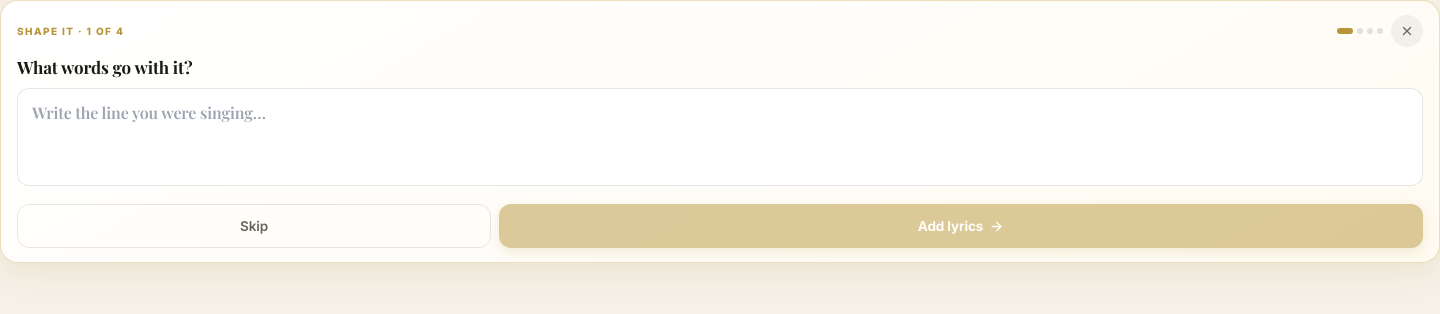
GuidedShapeRail — the guided path from a fresh idea to its home › without a song attached, the last card offers the loose ideas home
What coordinates should you click on to do the following:
click the button "Skip"
I would click on:
 (254, 226)
Its box is top-left (17, 204), bottom-right (491, 248).
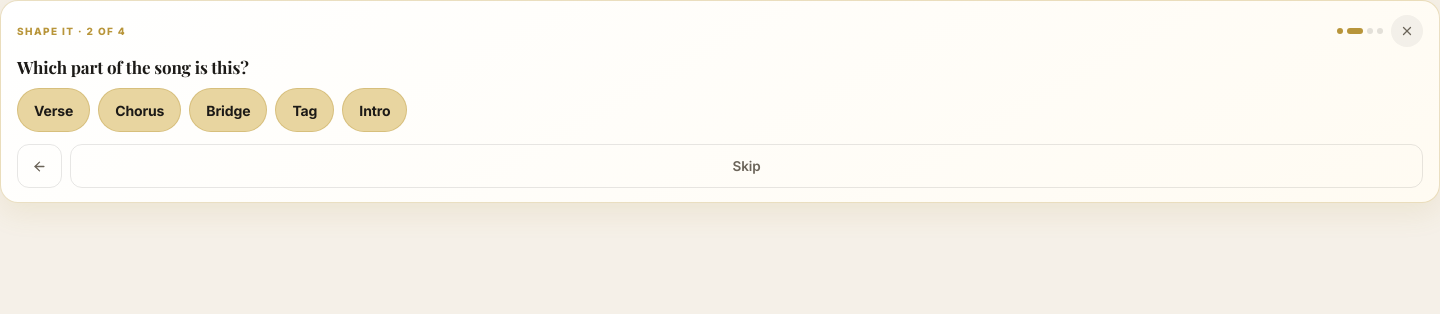
What coordinates should you click on to do the following:
click the button "Skip"
I would click on:
 (746, 166)
Its box is top-left (70, 144), bottom-right (1423, 188).
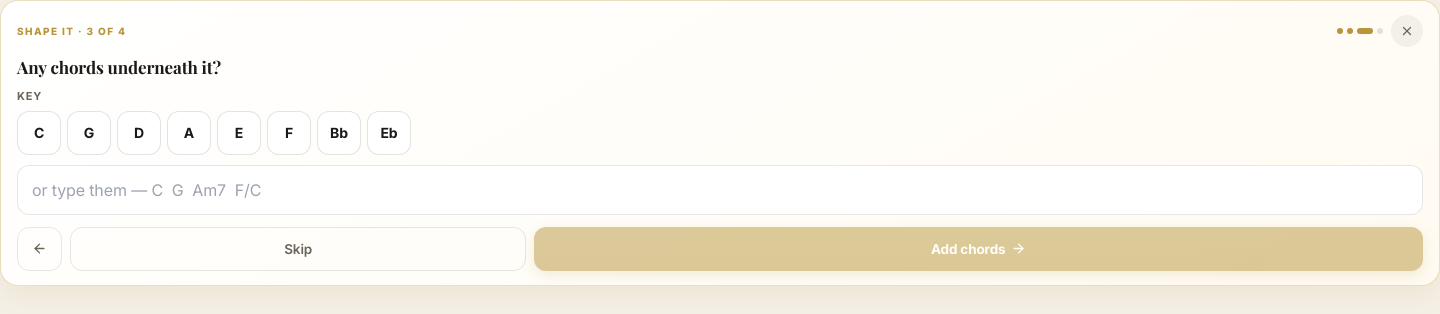
What coordinates should you click on to do the following:
click the button "Skip"
I would click on:
 (298, 249)
Its box is top-left (70, 227), bottom-right (526, 271).
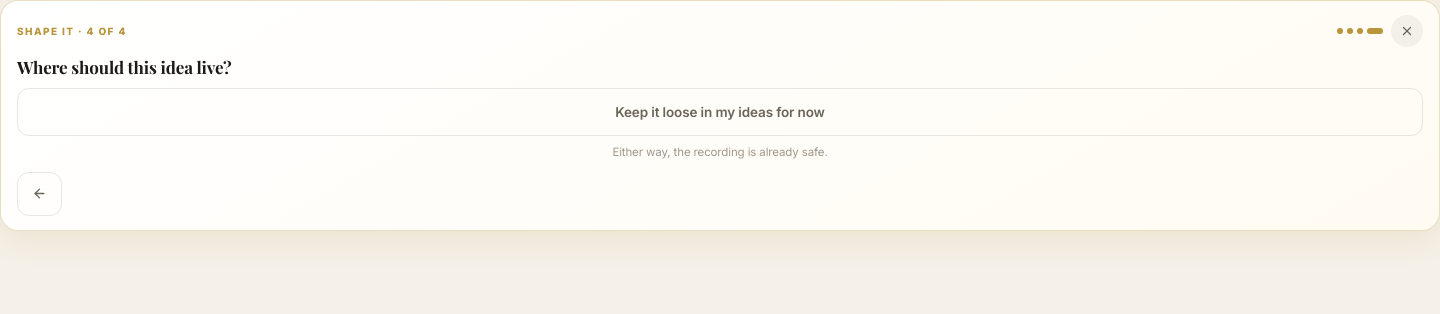
Expected: the button "Keep it loose in my ideas for now" is shown, top-left (17, 88), bottom-right (1423, 136)
